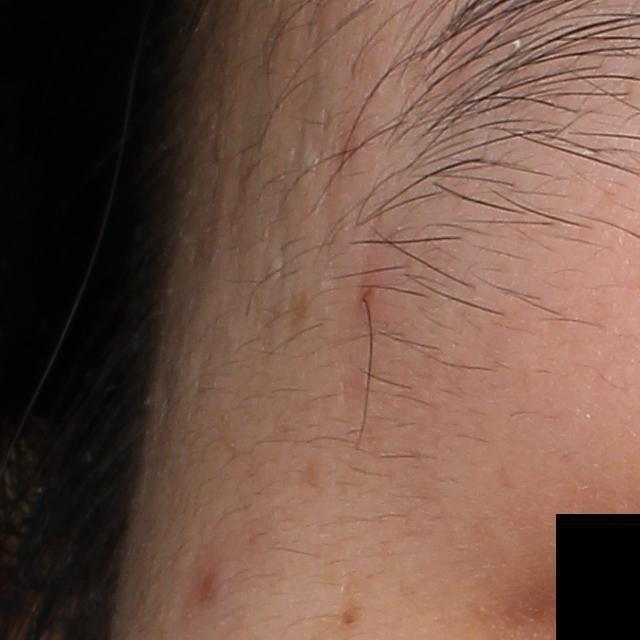melasma: (284, 283, 314, 333)
